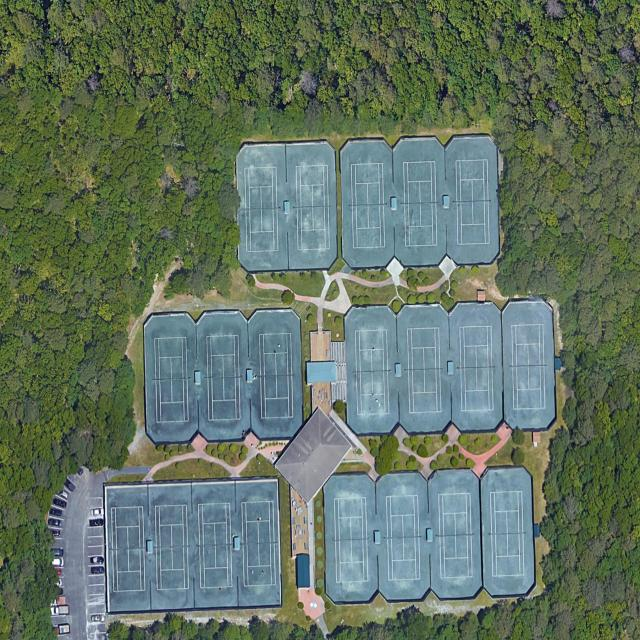large-vehicle: (50, 605, 70, 616)
small-vehicle: (61, 475, 77, 493), (70, 460, 85, 476), (54, 487, 69, 500), (53, 497, 67, 509), (48, 517, 62, 528), (45, 559, 64, 567), (46, 578, 63, 586), (49, 548, 64, 557), (89, 518, 104, 527), (90, 556, 105, 565), (47, 588, 63, 596), (90, 508, 104, 517), (91, 614, 105, 623), (50, 508, 63, 517), (45, 529, 61, 536), (47, 569, 62, 576), (91, 567, 104, 575)
